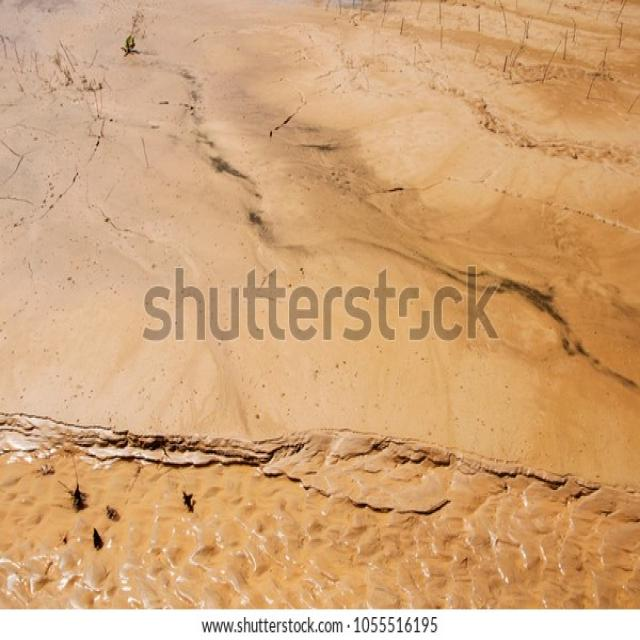Alluvial Soil: (79, 58, 576, 238)
